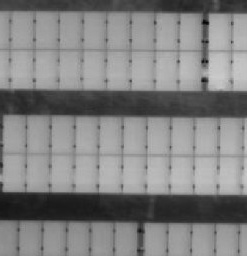solar: (47, 113, 77, 155), (7, 9, 36, 51), (32, 9, 61, 51), (55, 9, 84, 51), (79, 9, 108, 51), (104, 9, 133, 51), (128, 9, 157, 51), (152, 10, 181, 52), (176, 10, 205, 52), (206, 10, 235, 52), (7, 47, 36, 89), (32, 47, 61, 89), (55, 47, 84, 89), (79, 48, 108, 90), (103, 50, 132, 92), (127, 49, 156, 91), (151, 49, 180, 91), (176, 49, 205, 91), (206, 49, 235, 91), (72, 113, 101, 155), (97, 113, 126, 155), (120, 113, 149, 155), (144, 113, 173, 155), (168, 115, 197, 157), (192, 115, 221, 157), (216, 116, 245, 158), (216, 153, 245, 195), (191, 153, 220, 195), (168, 153, 197, 195), (144, 153, 173, 195), (120, 153, 149, 195), (96, 151, 125, 193), (71, 151, 100, 193), (47, 151, 76, 193), (23, 150, 52, 192), (24, 112, 52, 154), (1, 150, 29, 192), (1, 112, 28, 154)
